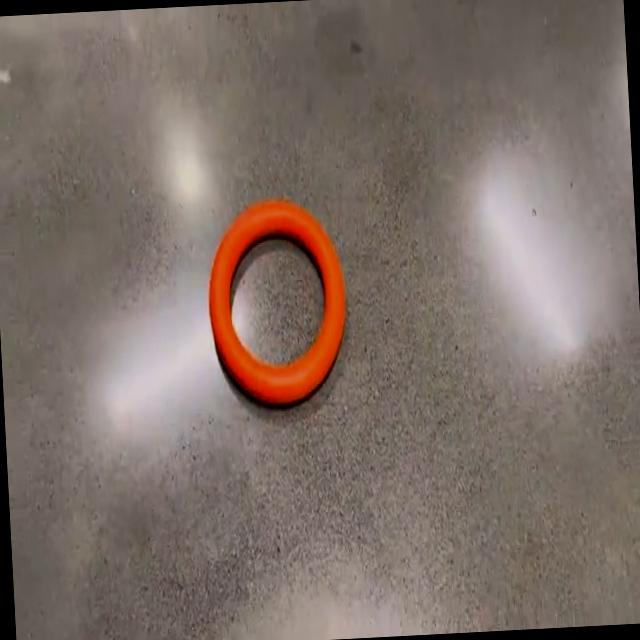note: (209, 200, 346, 405)
